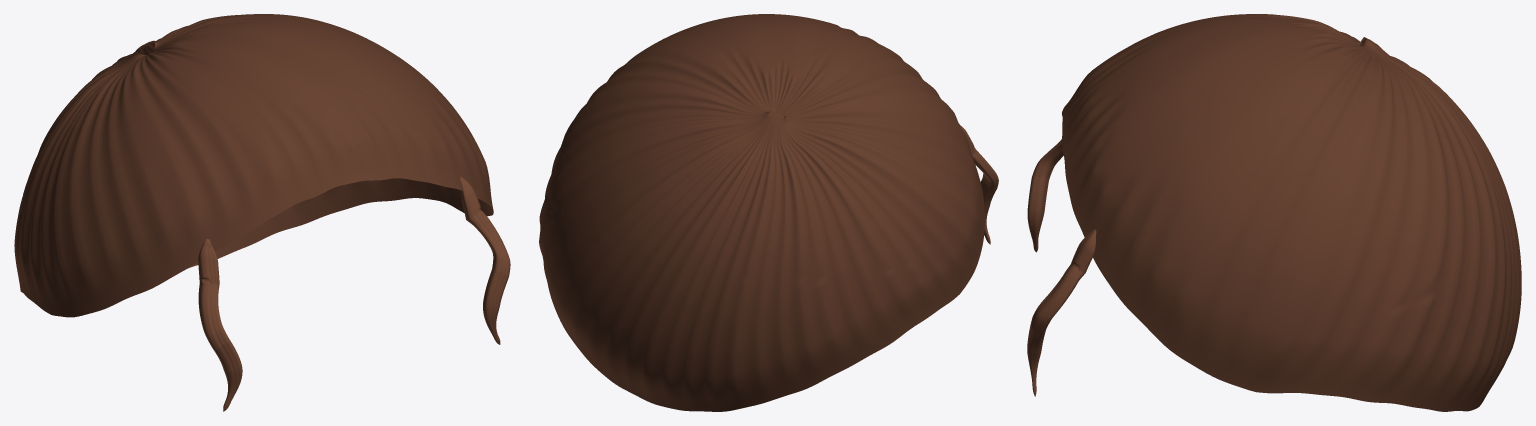
File: ponytail-beanie-fringe-default.glb
The picture shows the model from 3 angles, left to right: view 1: azimuth 30°, elevation 25°; view 2: azimuth 150°, elevation 25°; view 3: azimuth 270°, elevation 25°; orthographic projection. The views are drawn at different scales.
Parts seen in each view (by area): view 1: 226 hair / Hair / crisp pulled roots220.002, 226 hair / Hair / sculpted front locks222.002; view 2: 226 hair / Hair / crisp pulled roots220.002, 226 hair / Hair / sculpted front locks222.002; view 3: 226 hair / Hair / crisp pulled roots220.002, 226 hair / Hair / sculpted front locks222.002.
Boxes of the visible parts, <box> form: 226 hair / Hair / crisp pulled roots220.002: <box>14,14,493,317</box>; 226 hair / Hair / sculpted front locks222.002: <box>198,176,510,411</box>; 226 hair / Hair / crisp pulled roots220.002: <box>539,14,984,411</box>; 226 hair / Hair / sculpted front locks222.002: <box>959,124,998,244</box>; 226 hair / Hair / crisp pulled roots220.002: <box>1061,14,1521,411</box>; 226 hair / Hair / sculpted front locks222.002: <box>1027,139,1096,396</box>.
Bounding box in the file's own units: 0.7726 × 0.5697 × 0.7364.
